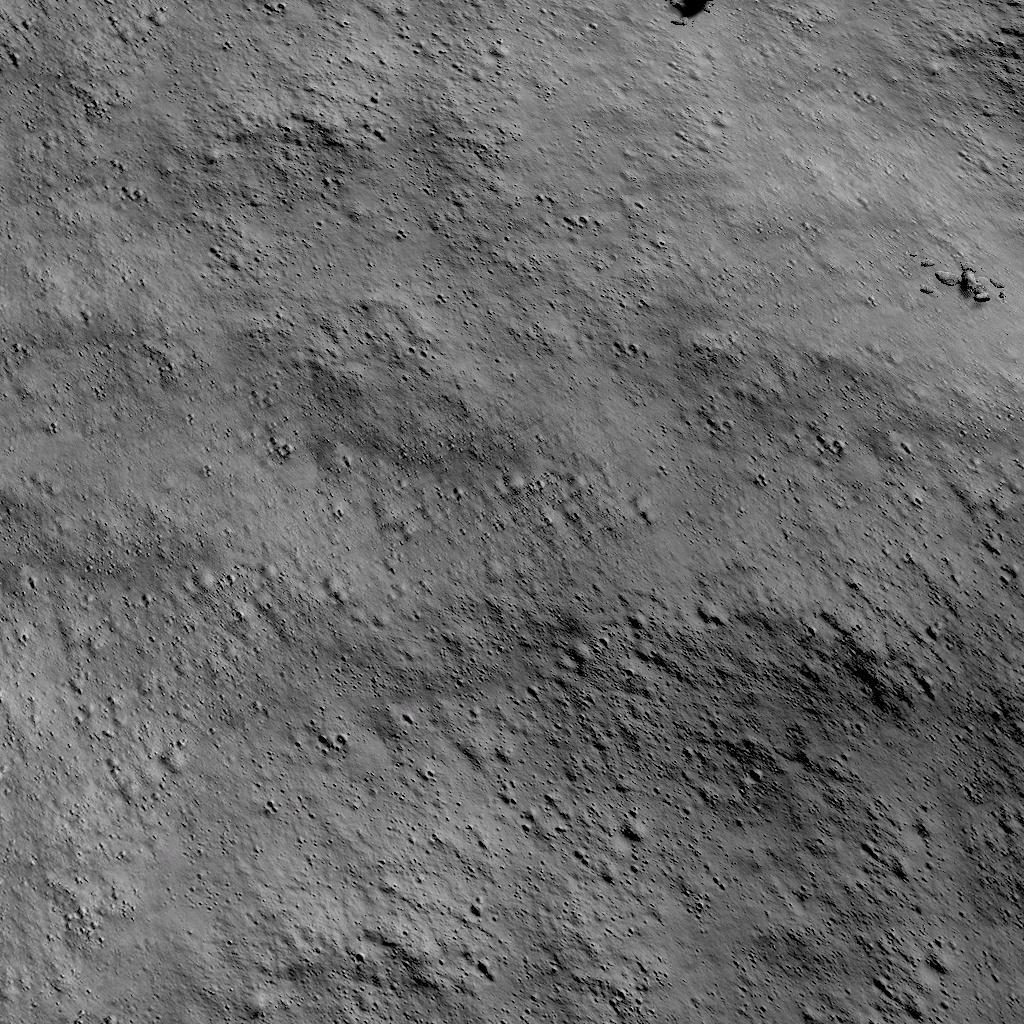Plan surface: (0, 320, 1024, 1024), (0, 0, 910, 308)
